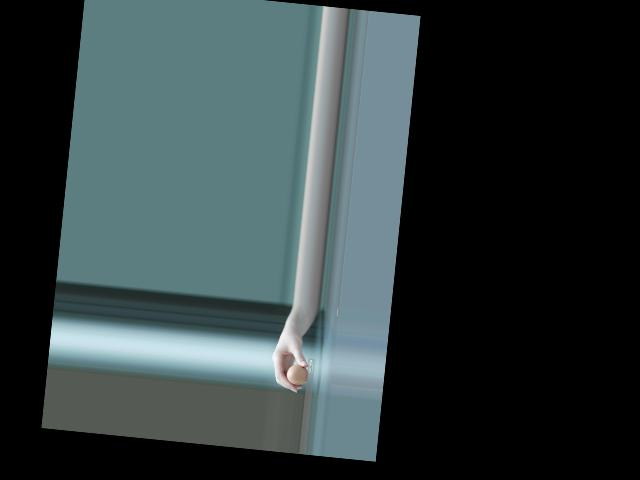egg: (285, 363, 309, 386)
